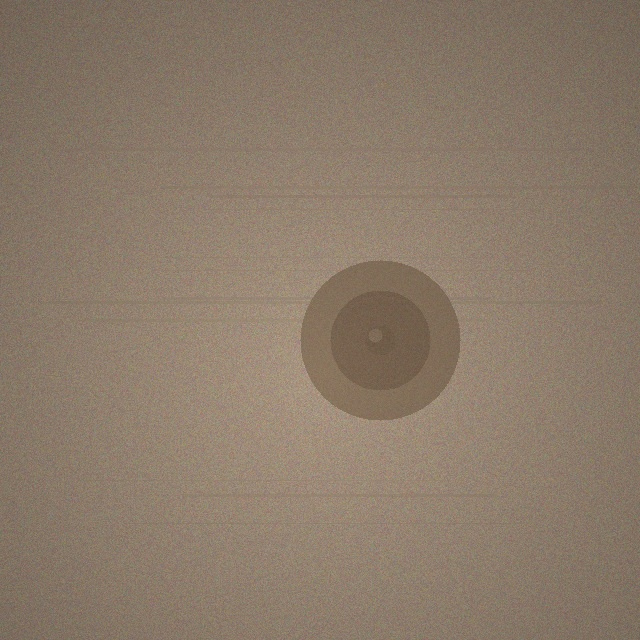good: (300, 260, 460, 420)
